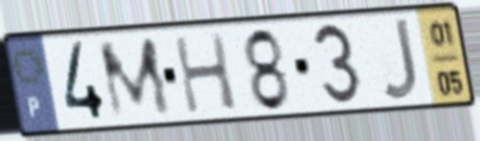3: (311, 19, 365, 111)
4: (60, 38, 108, 125)
8: (239, 22, 292, 115)
H: (170, 30, 241, 117)
J: (378, 15, 421, 104)
M: (95, 34, 176, 123)
